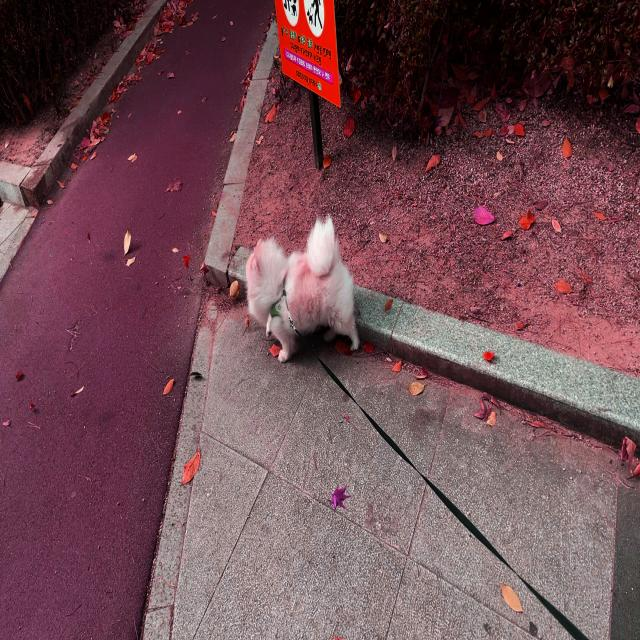Dog: (245, 214, 360, 364)
